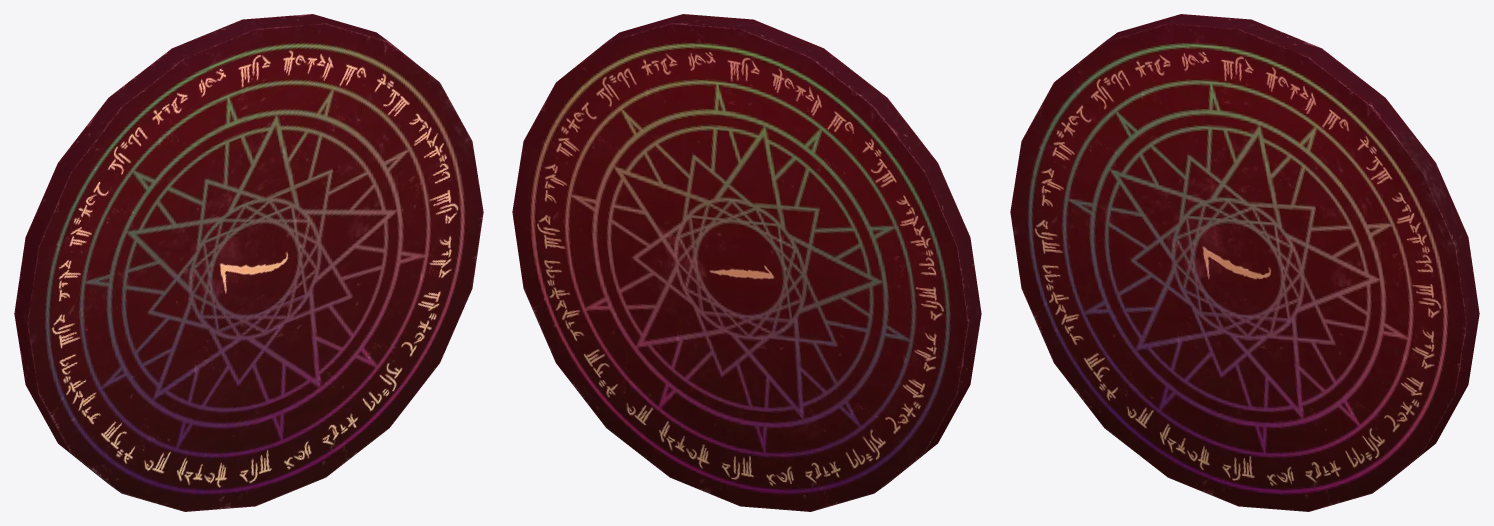
File: DragonGem_d2.gltf
The picture shows the model from 3 angles, left to right: view 1: azimuth 30°, elevation 25°; view 2: azimuth 150°, elevation 25°; view 3: azimuth 330°, elevation 25°; orthographic projection.
Visible parts, largest first — view 1: dragongem_d2; view 2: dragongem_d2; view 3: dragongem_d2.
Boxes of the visible parts, left/top/right/bottom form: dragongem_d2: left=14, top=14, right=483, bottom=511; dragongem_d2: left=512, top=14, right=981, bottom=511; dragongem_d2: left=1010, top=14, right=1479, bottom=511.
Bounding box in the file's own units: 180 × 180 × 9.04.
1 material, 1 textured.
